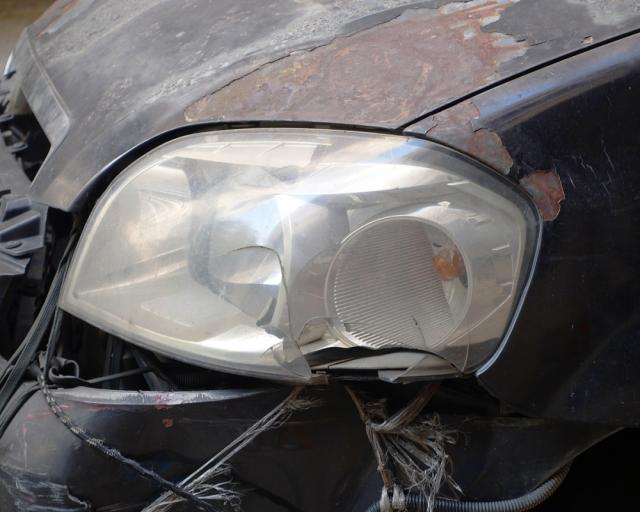lamp broken: (58, 126, 533, 381)
scratch: (0, 459, 96, 512)
